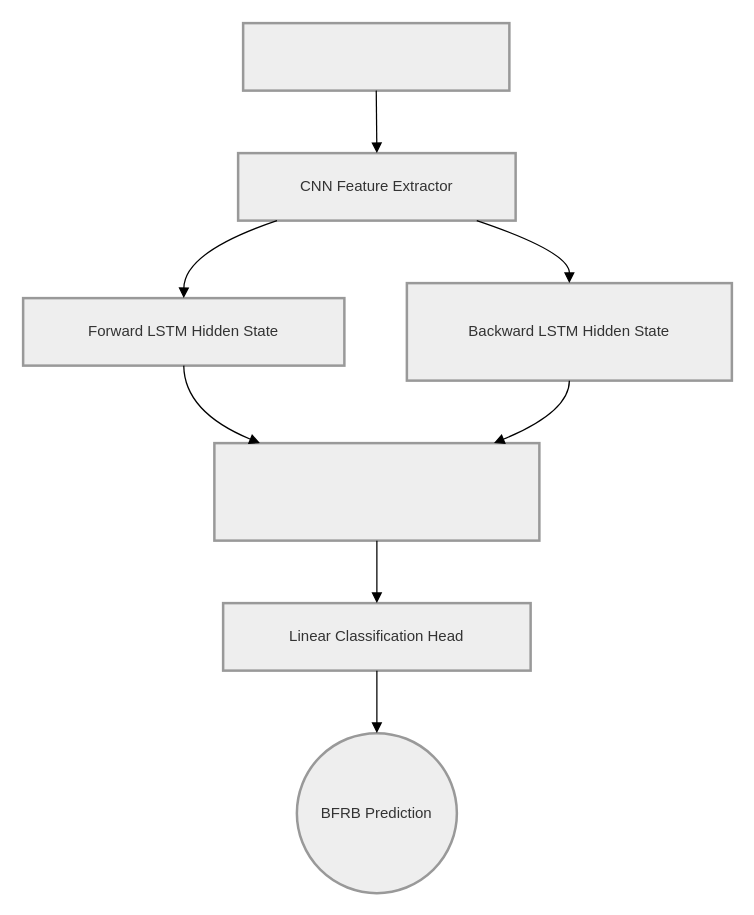
The diagram is 754 pixels wide and 915 high, and some of its shapes have lost their labels. The box of each missing label's shape, as (x1, y1, x2, y2) in pixels:
Concatenation & Mean Pooling: (212, 441, 540, 541)
Raw TOF Spatial Data: (241, 21, 510, 91)
